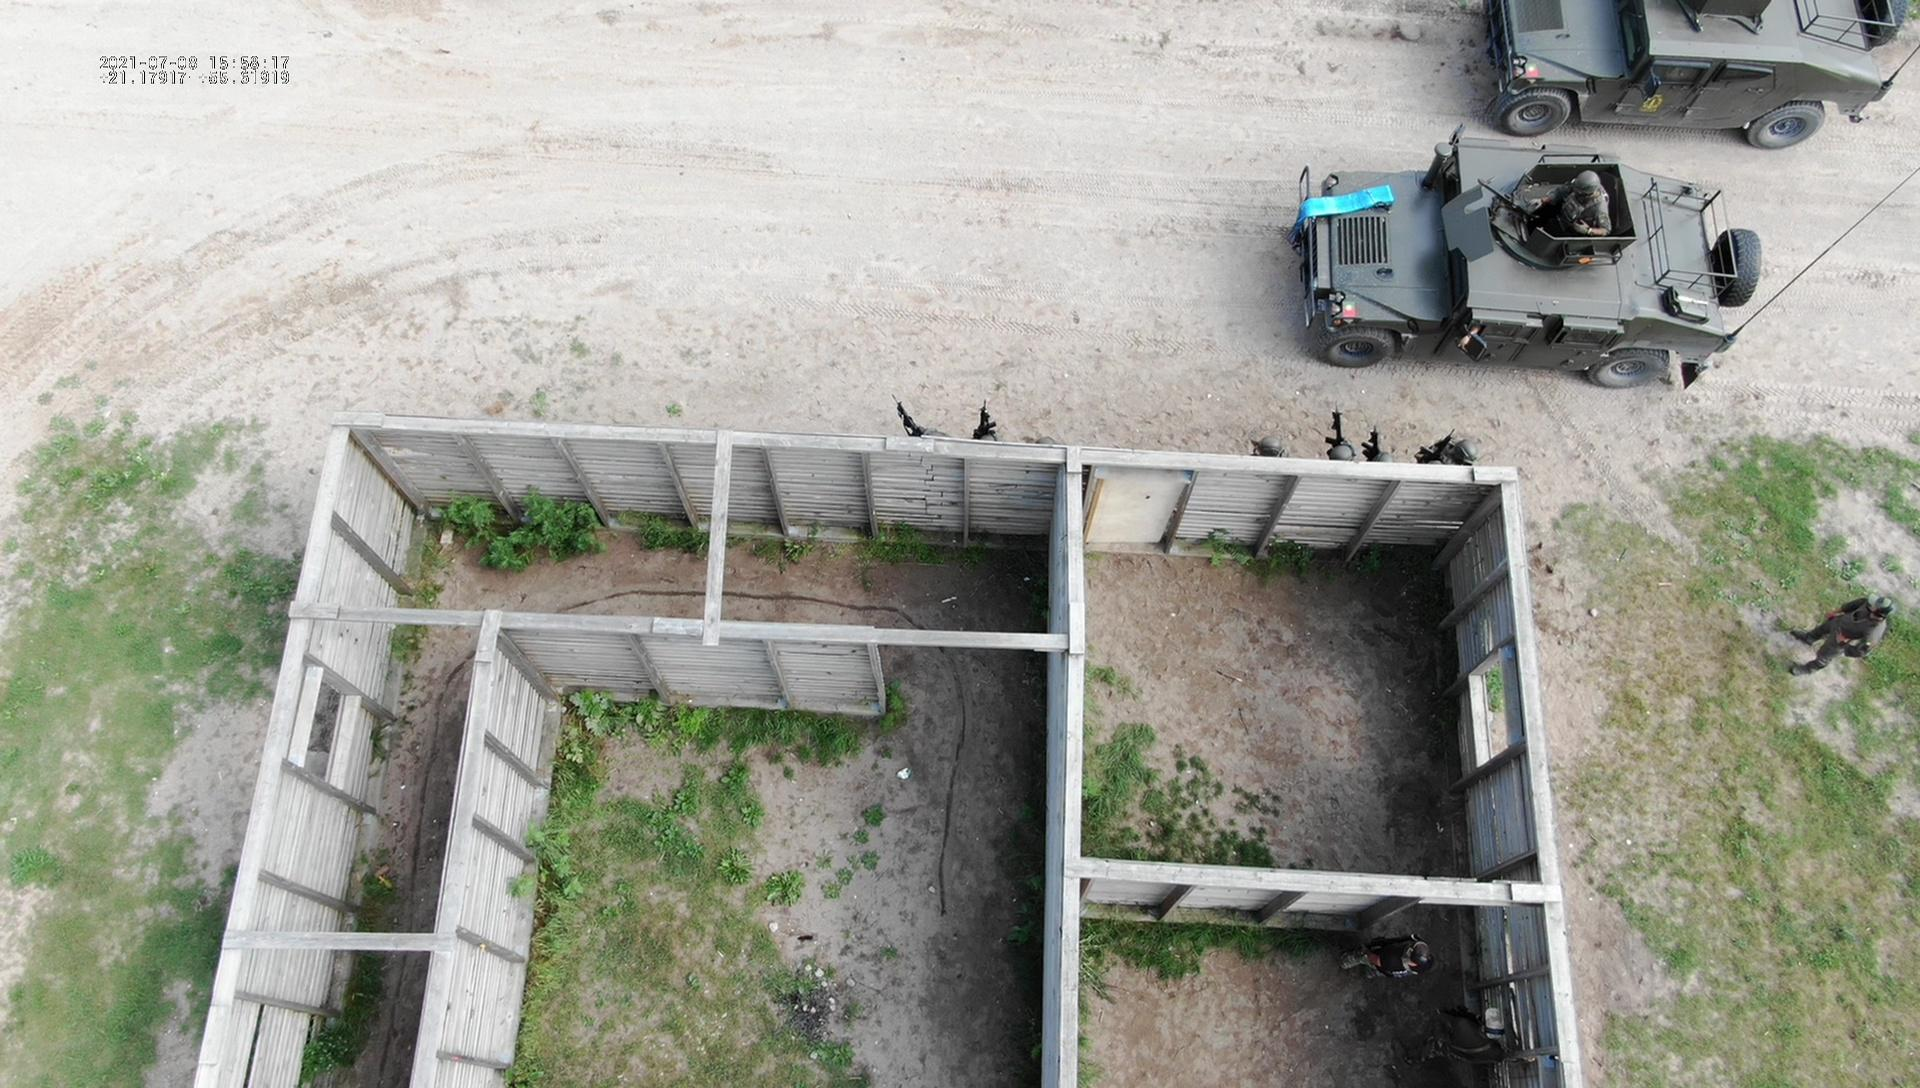Soldier: (1389, 984, 1509, 1088), (1352, 921, 1441, 1031), (1511, 161, 1621, 248), (1797, 588, 1898, 678), (1414, 423, 1480, 469)
